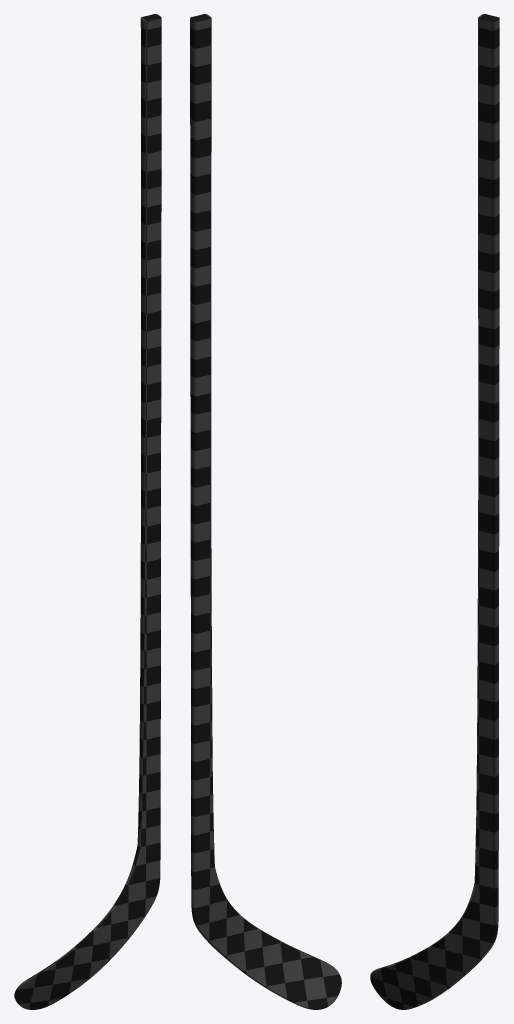
The model's file is P911-SBT.glb.
The picture shows the model from 3 angles, left to right: view 1: azimuth 30°, elevation 25°; view 2: azimuth 210°, elevation 25°; view 3: azimuth 330°, elevation 25°; orthographic projection. The views are drawn at different scales.
Parts seen in each view (by area): view 1: geometry_0; view 2: geometry_0; view 3: geometry_0.
Part boxes in pixels (x1=…): geometry_0: x1=14, y1=14, x2=161, y2=1009; geometry_0: x1=190, y1=14, x2=341, y2=1009; geometry_0: x1=370, y1=14, x2=499, y2=1009.
Bounding box in the file's own units: 235 × 1650 × 55.42.
Materials: 1 (1 with a texture image).
